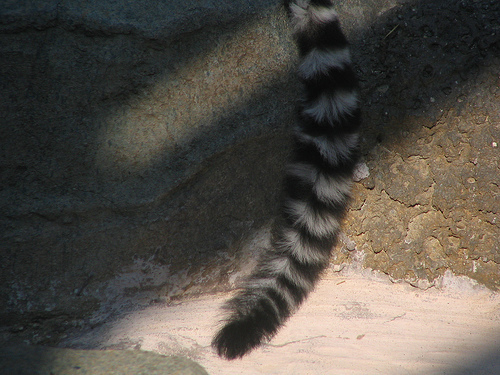cat: (203, 0, 368, 364)
